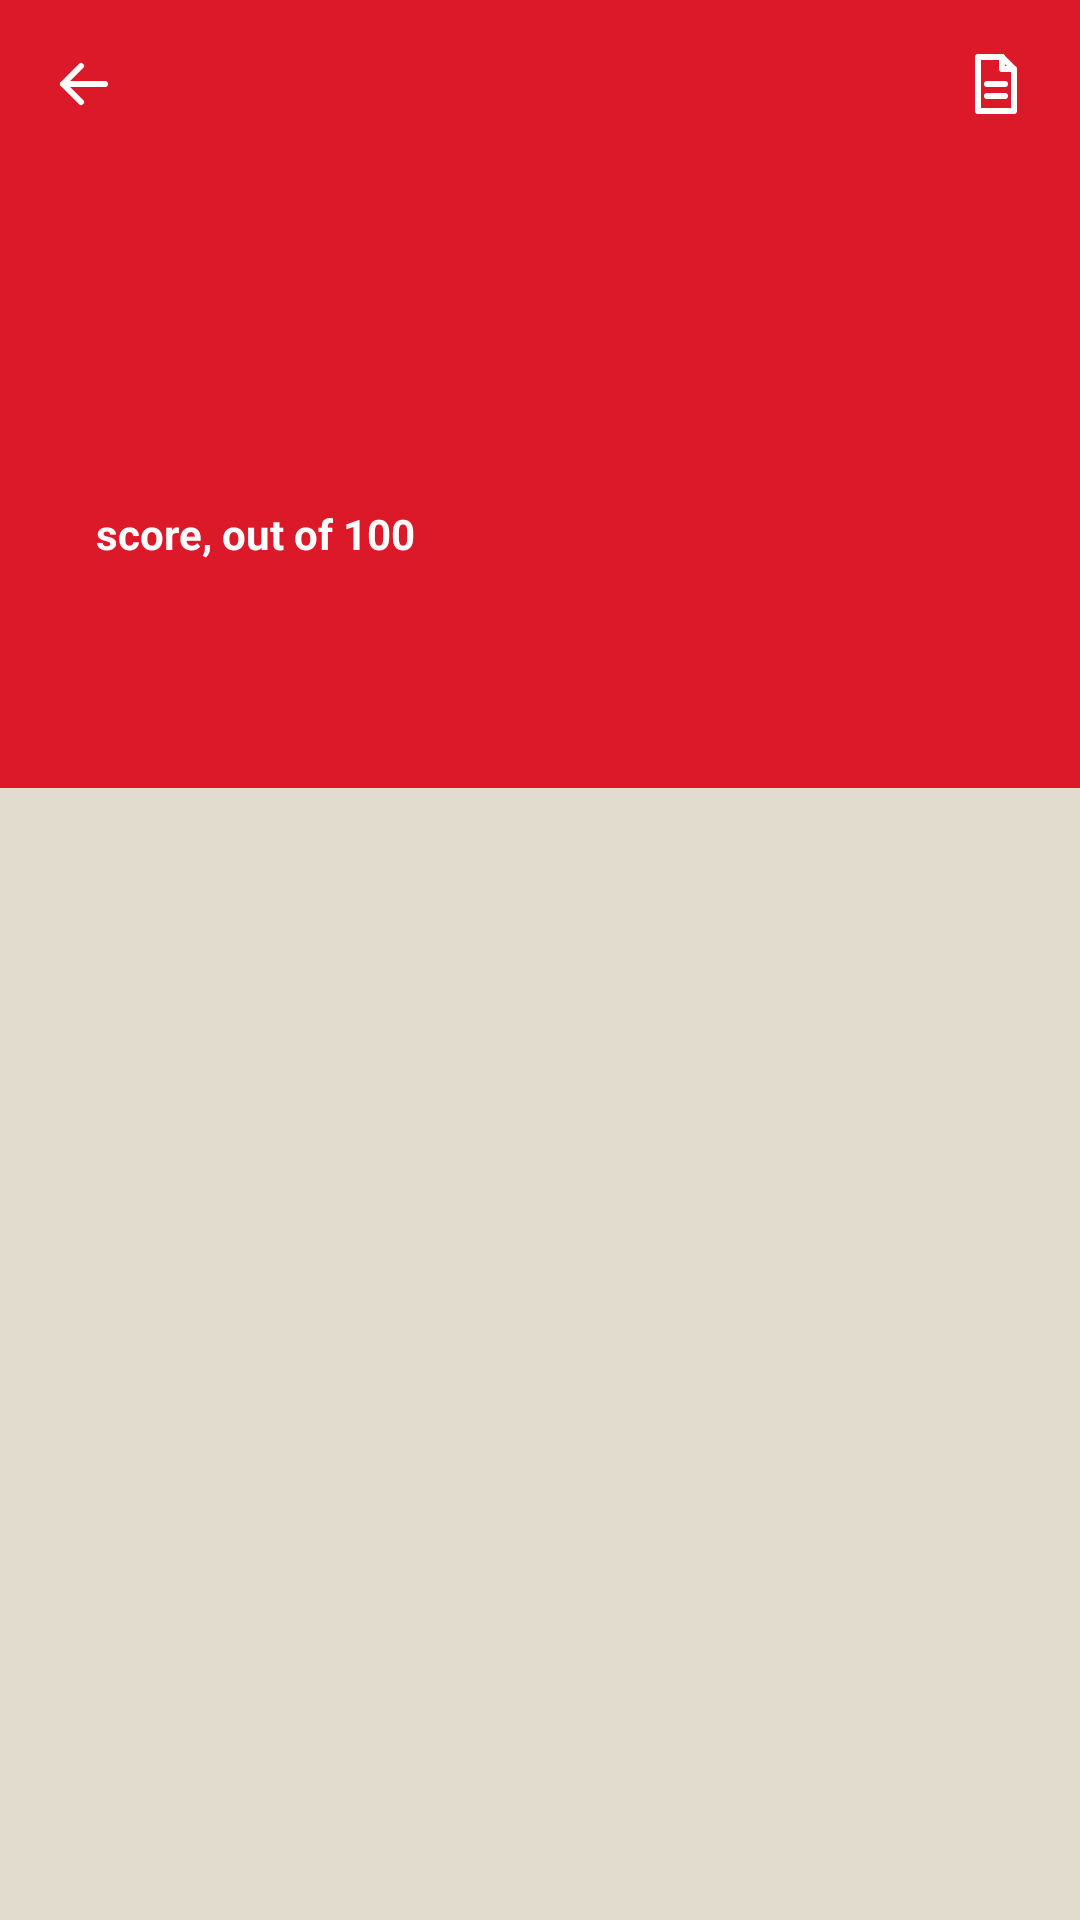

Named icons in this screenshot (1080 × 1920) and their centers, (x,y):
Back: (84,84)
Create a report for this incident: (996,84)
